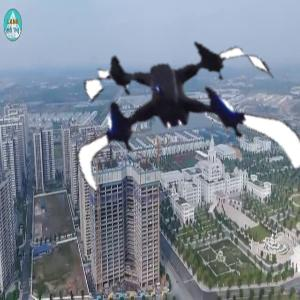drone: (61, 6, 286, 231)
